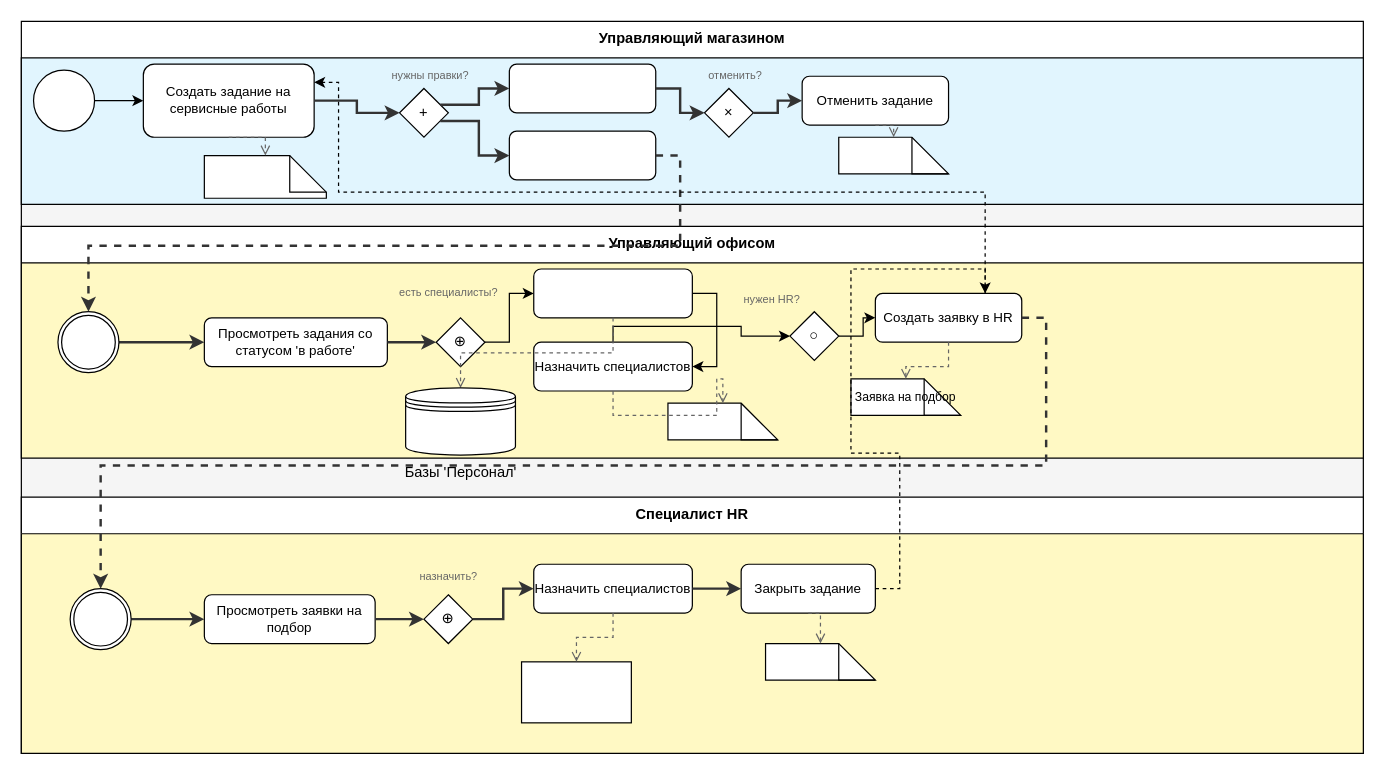
This 1385x775 diagram has some shape labels left out. The centre of each missing label's shape, as x and y in pixels:
"База 'Персонал'" belongs at (575,692).
"Задание выполнено" belongs at (722,421).
"Задание закрыто" belongs at (819,661).
"Задание отменено" belongs at (893,155).
"Задание поступило" belongs at (88,341).
"Заявка от офиса" belongs at (100,618).
"Новое задание (статус: новый)" belongs at (264,176).
"Отправить задание в офис" belongs at (582,155).
"Подобрать специалистов" belongs at (612,293).
"Редактировать задание" belongs at (582,88).
